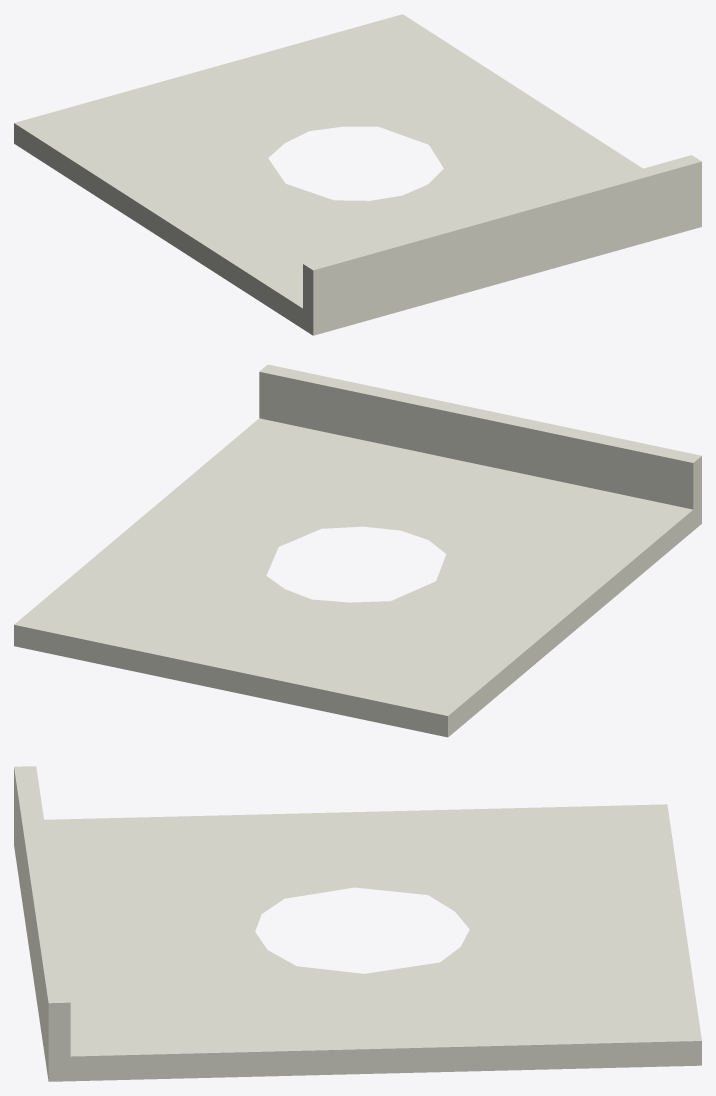
Rendered from CdDrive.fbx.
3 views of the same model, one above another, from view 1: azimuth 30°, elevation 25°; view 2: azimuth 150°, elevation 25°; view 3: azimuth 270°, elevation 25° (orthographic). The views are drawn at different scales.
Parts seen in each view (by area): view 1: CdDrive; view 2: CdDrive; view 3: CdDrive.
Part boxes in pixels (x1,y1,x2,y2): CdDrive: [14, 14, 701, 335]; CdDrive: [14, 364, 701, 737]; CdDrive: [14, 766, 701, 1081].
Bounding box in the file's own units: 0.6465 × 0.0815 × 0.5619.
